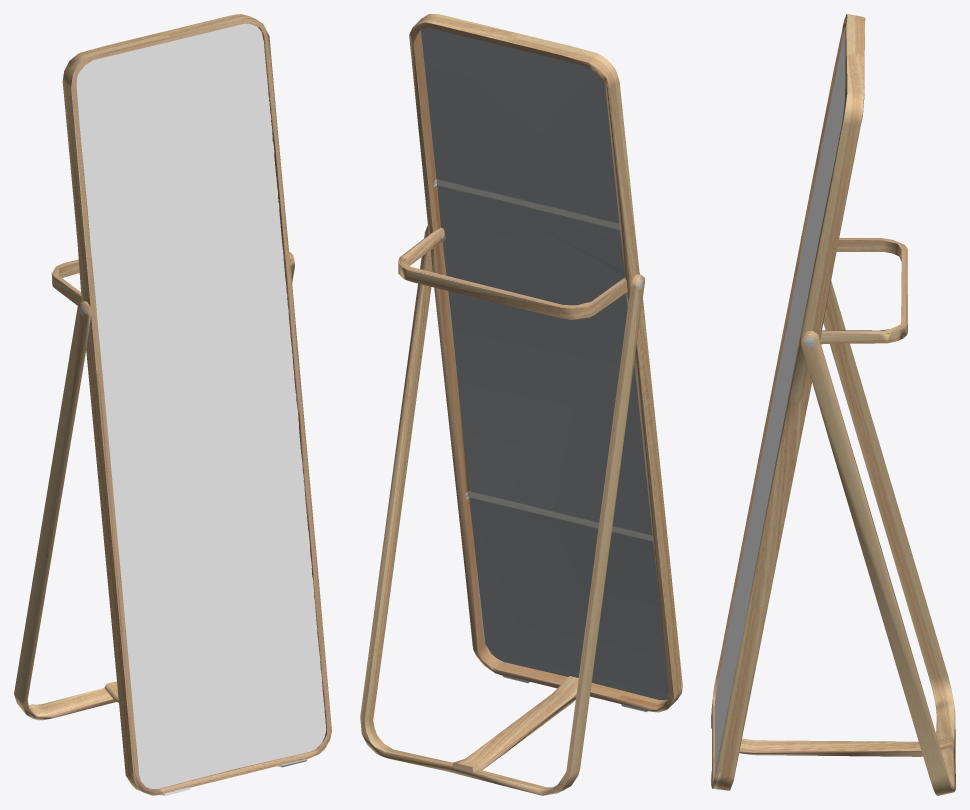
The model's file is ikornnes_lustro_stojace_30298396.glb.
The picture shows the model from 3 angles, left to right: view 1: azimuth 30°, elevation 25°; view 2: azimuth 150°, elevation 25°; view 3: azimuth 270°, elevation 25°; orthographic projection.
Visible parts, largest first — view 1: ikornnes_lustro_stojace_30298396; view 2: ikornnes_lustro_stojace_30298396; view 3: ikornnes_lustro_stojace_30298396.
Part boxes in pixels (bbox=[...]): ikornnes_lustro_stojace_30298396: bbox=[14, 14, 331, 795]; ikornnes_lustro_stojace_30298396: bbox=[360, 14, 682, 795]; ikornnes_lustro_stojace_30298396: bbox=[711, 14, 955, 795].
Size of the model in its own units: 0.5246 by 1.66 by 0.5243.
Materials: 2 (2 with a texture image).
